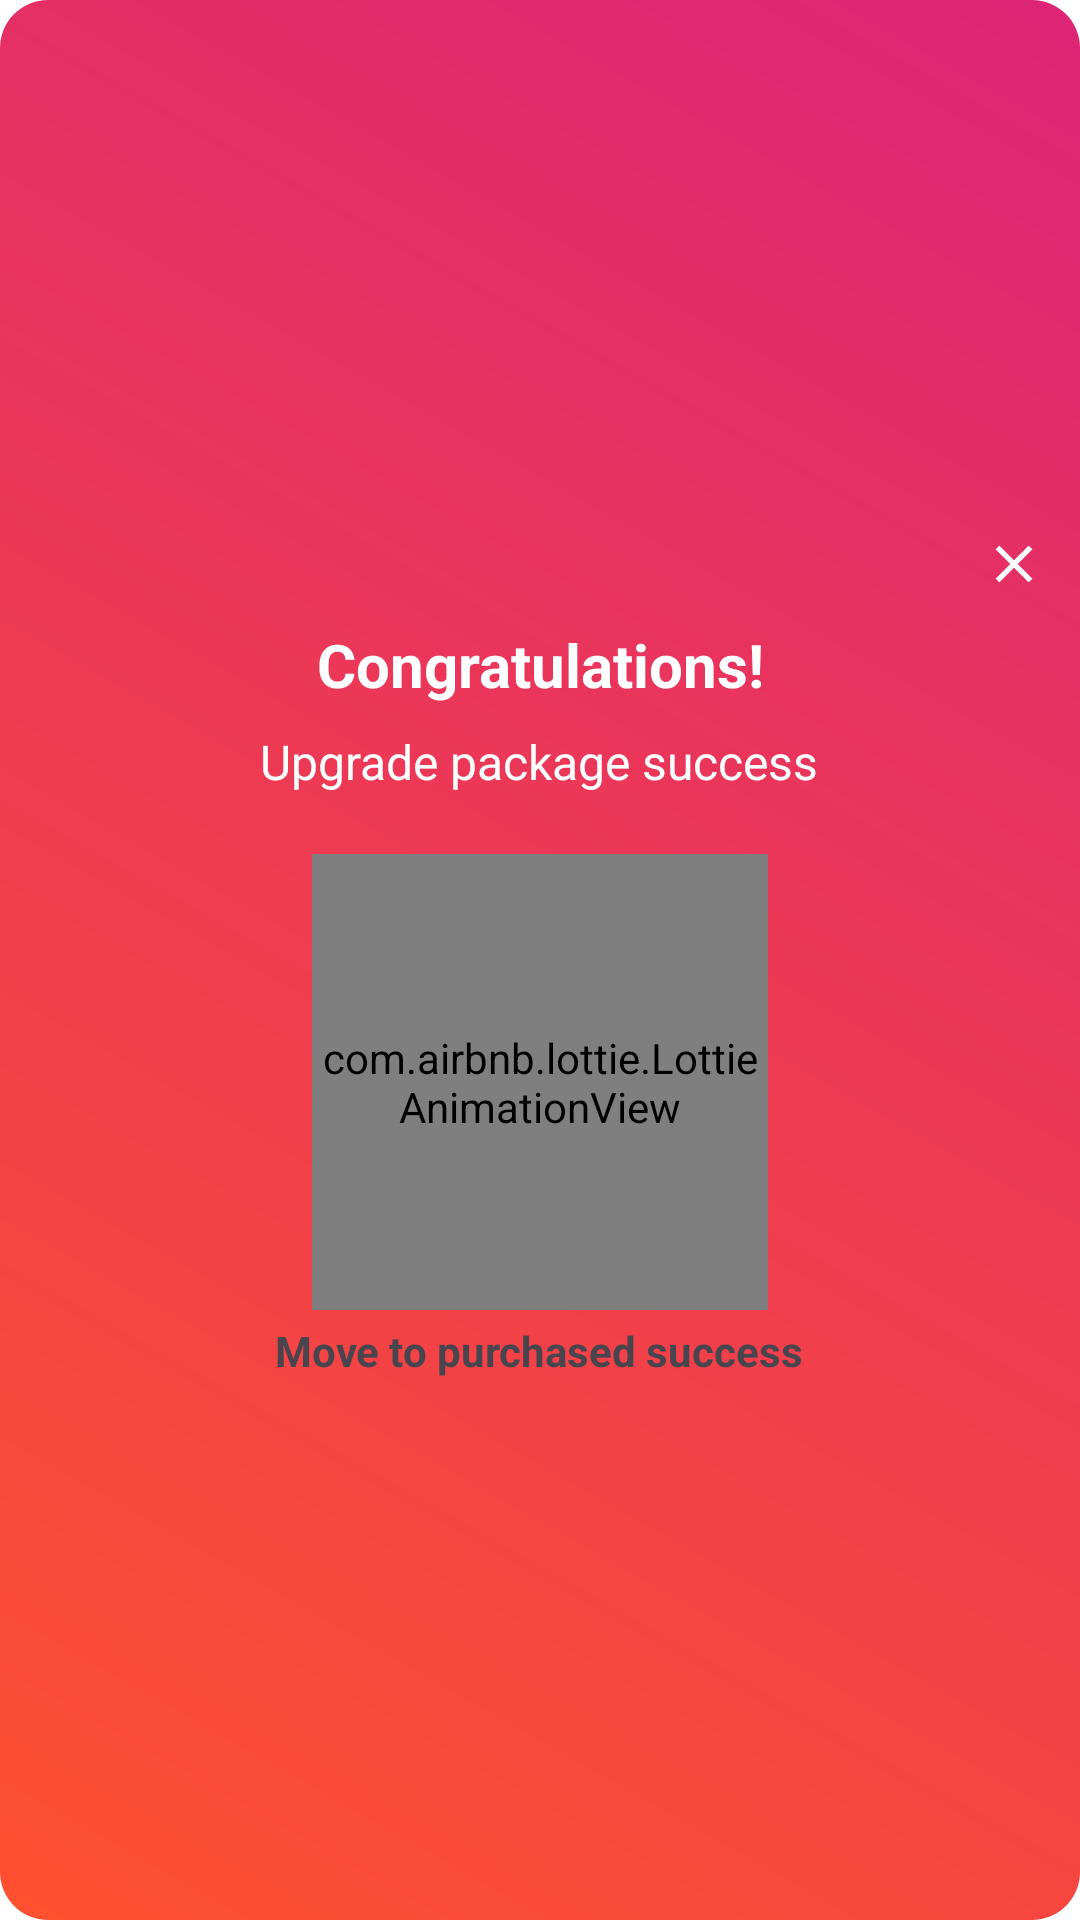

Where to tap for icons on this 1080px x 1920px app screen, as (x,y):
close: (1014,564)
